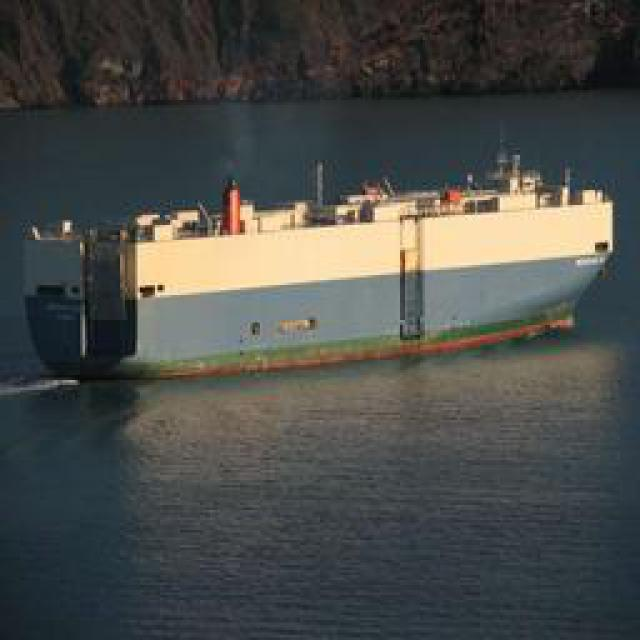Ship: (23, 155, 621, 385)
